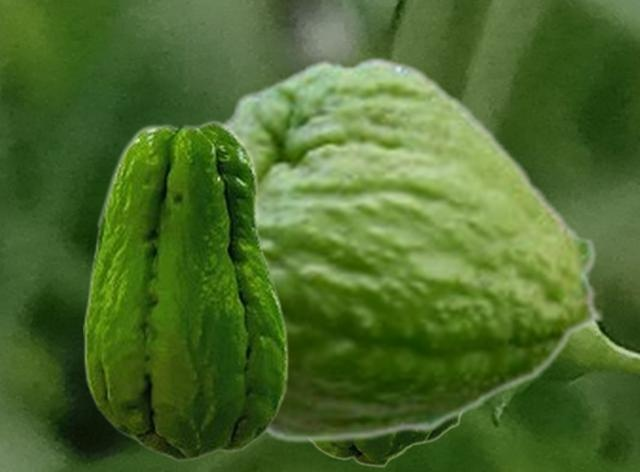sayote: (220, 55, 605, 444), (83, 119, 288, 461), (309, 414, 465, 467)
